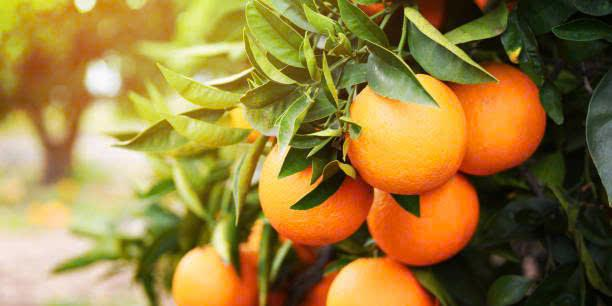orange: (337, 71, 466, 197), (261, 148, 381, 251), (465, 65, 547, 177), (369, 189, 488, 266), (324, 251, 438, 306)
